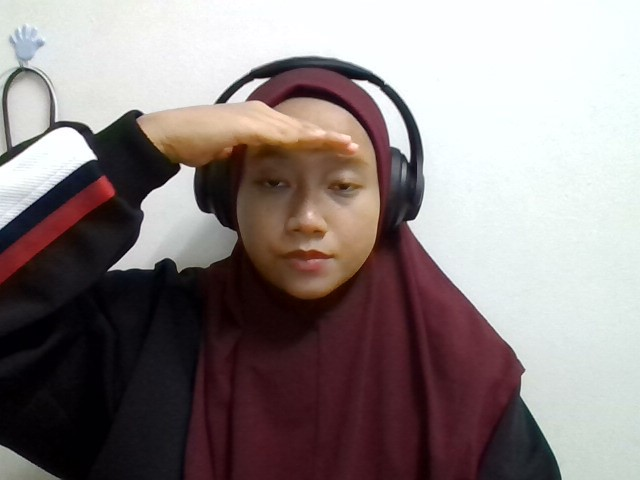Johor: (178, 101, 371, 168)
